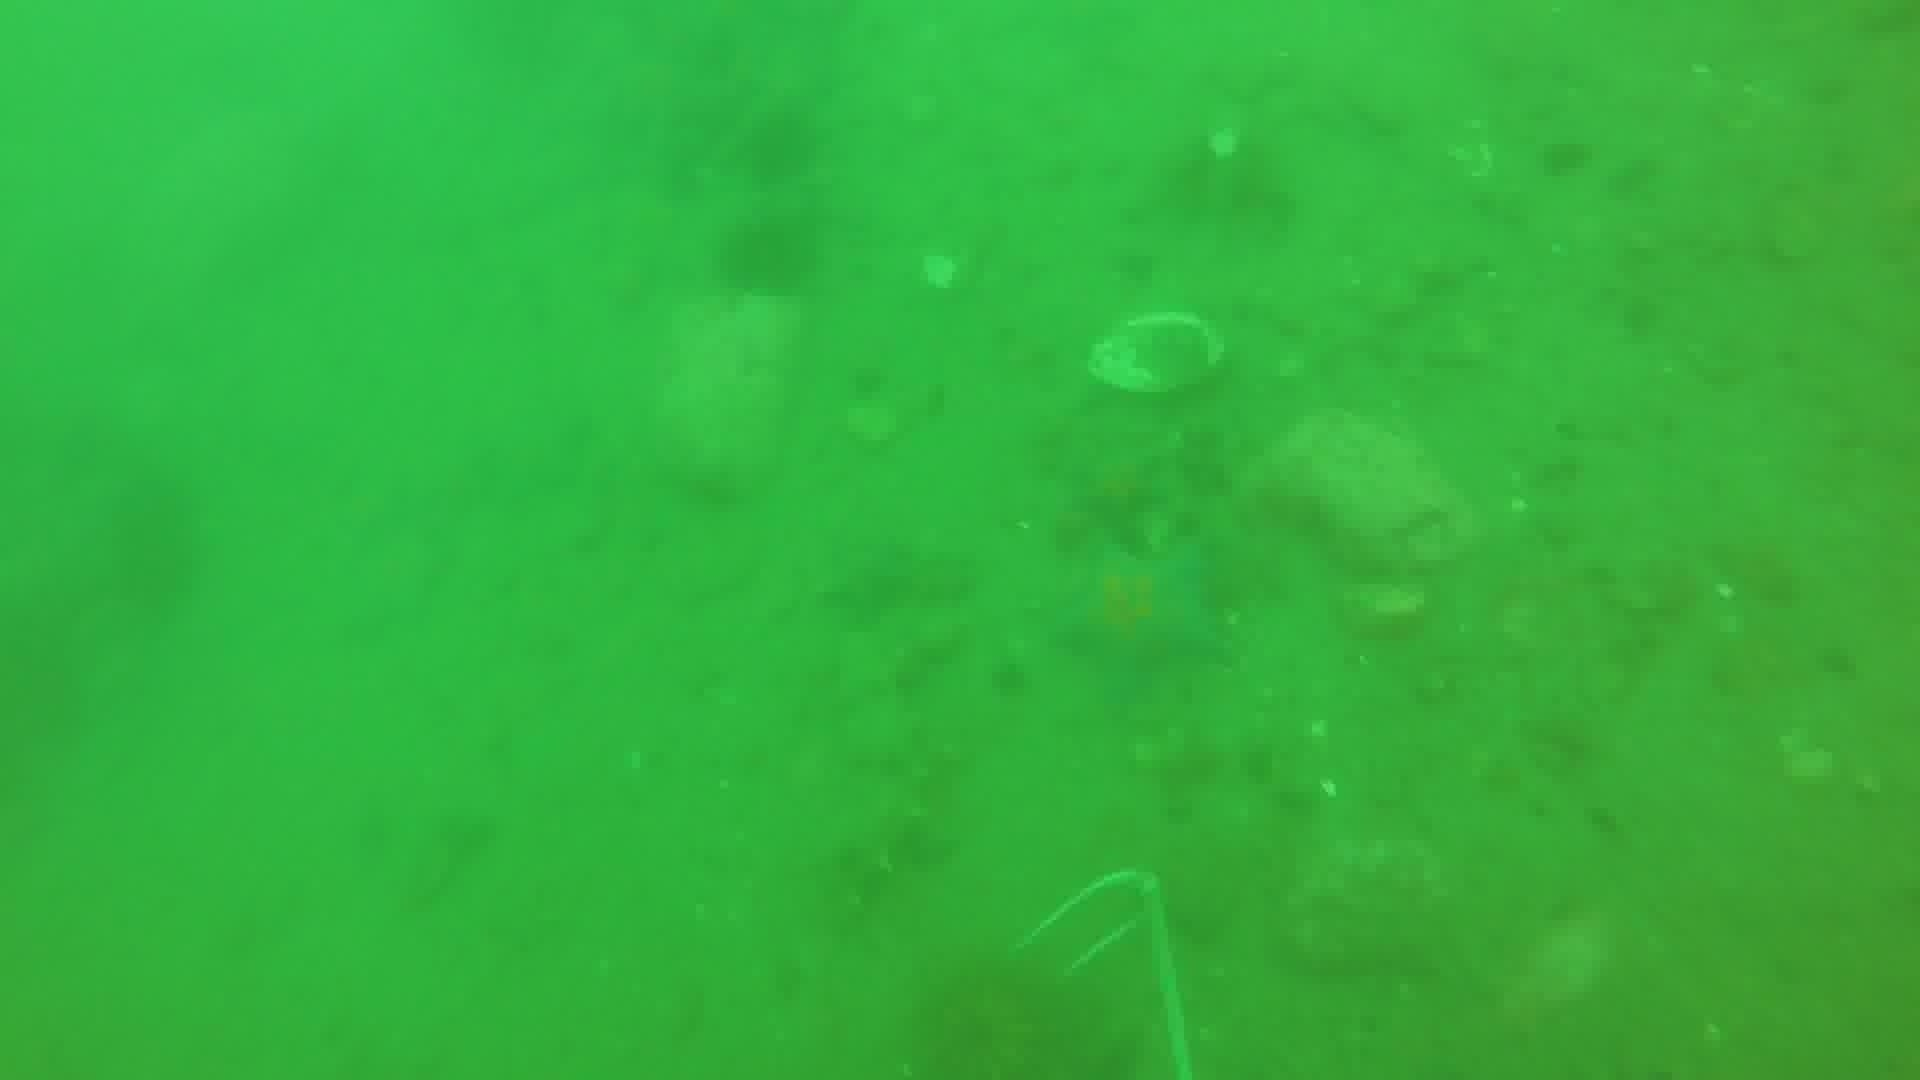echinus: (878, 949, 1072, 1080), (95, 469, 211, 617), (713, 210, 823, 302), (735, 103, 825, 187), (1534, 133, 1596, 182)
holothurian: (811, 618, 956, 920)
starfish: (1048, 541, 1234, 704), (814, 535, 971, 625), (1064, 440, 1178, 535)
